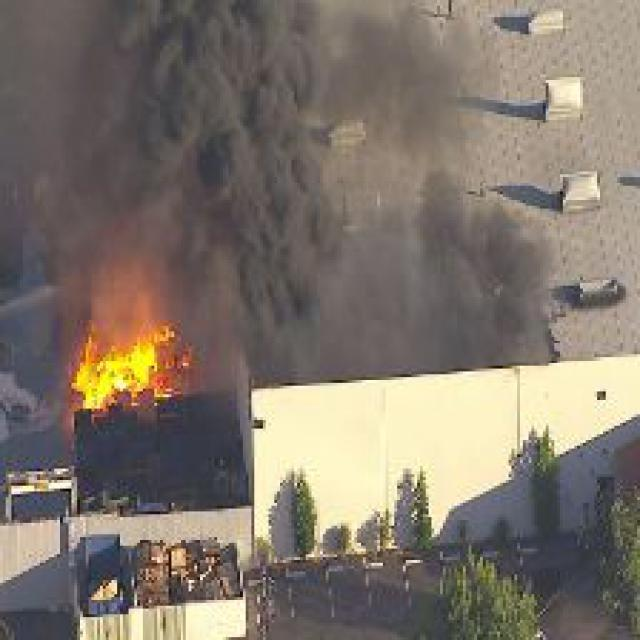fire: (54, 308, 209, 448)
